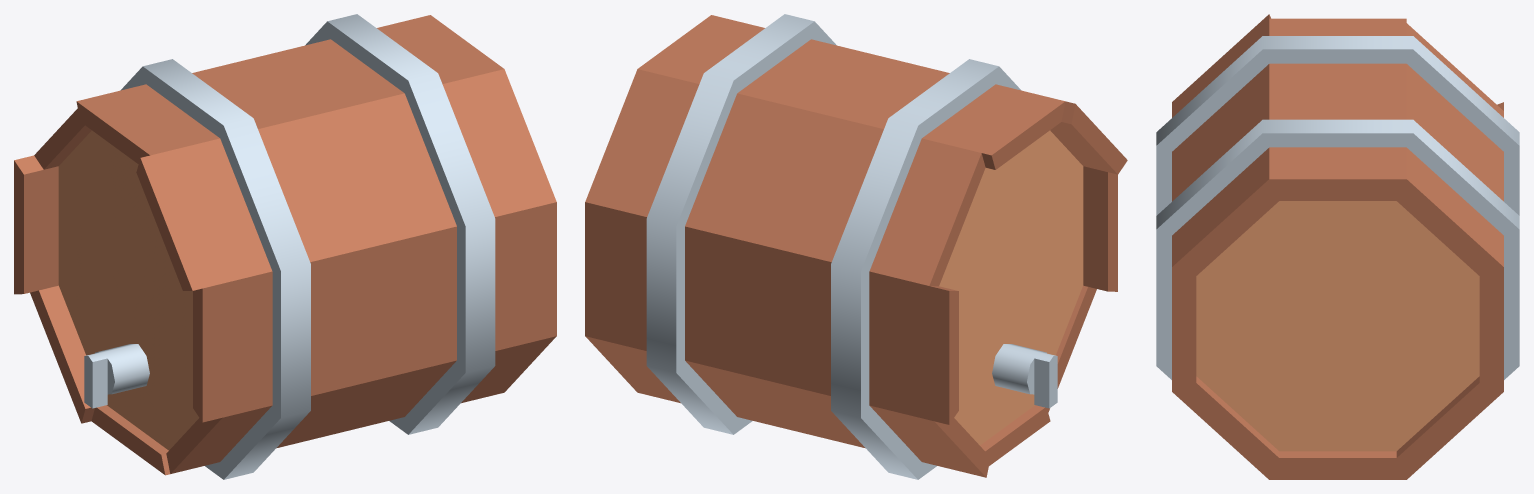
File: barrel.dae
3 renders of one model, left to right at view 1: azimuth 30°, elevation 25°; view 2: azimuth 150°, elevation 25°; view 3: azimuth 270°, elevation 25°, orthographic. The views are drawn at different scales.
Visible parts, largest first — view 1: barrel; view 2: barrel; view 3: barrel.
Part boxes in pixels (x1,y1,x2,y2): barrel: (14, 14, 556, 479); barrel: (585, 14, 1127, 479); barrel: (1156, 14, 1519, 479).
Bounding box in the file's own units: 0.76 × 0.6789 × 0.6789.
